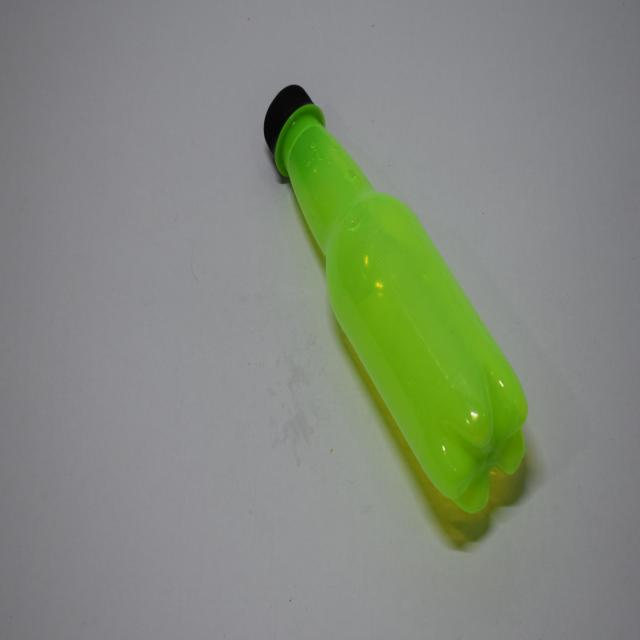bottle: (261, 78, 530, 520)
